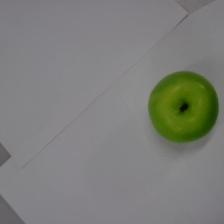green: (149, 70, 219, 142)
